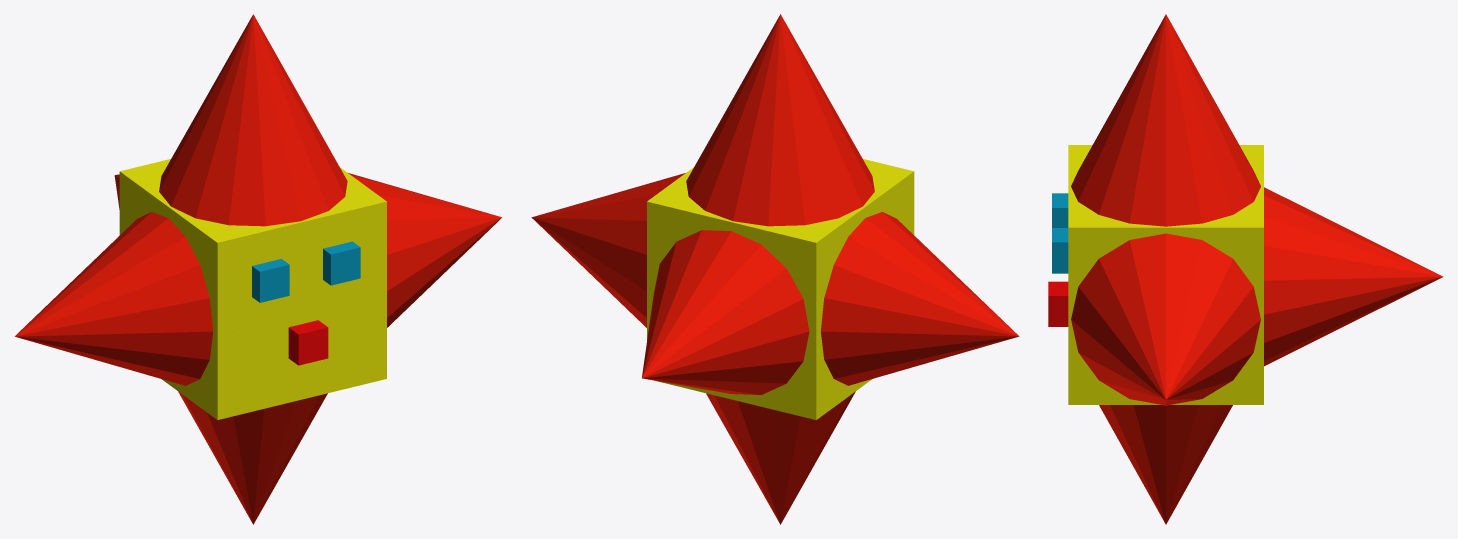
The model's file is Kazul2.fbx.
The picture shows the model from 3 angles, left to right: view 1: azimuth 30°, elevation 25°; view 2: azimuth 150°, elevation 25°; view 3: azimuth 270°, elevation 25°; orthographic projection.
Visible parts, largest first — view 1: Body.001, Top Spike, Right Spike, Left Spike, Bottom Spike, Eye, Nose; view 2: Top Spike, Back Spike, Right Spike, Body.001, Left Spike, Bottom Spike; view 3: Left Spike, Top Spike, Back Spike, Body.001, Bottom Spike, Eye, Nose.
Boxes of the visible parts, <box> form: Body.001: <box>119,159,386,419</box>; Top Spike: <box>159,14,347,226</box>; Right Spike: <box>15,212,213,385</box>; Left Spike: <box>348,173,501,327</box>; Bottom Spike: <box>178,391,327,524</box>; Eye: <box>252,241,360,302</box>; Nose: <box>288,320,328,365</box>; Top Spike: <box>686,14,874,226</box>; Back Spike: <box>642,230,809,394</box>; Right Spike: <box>820,212,1019,385</box>; Body.001: <box>647,159,914,419</box>; Left Spike: <box>531,173,685,327</box>; Bottom Spike: <box>706,391,855,524</box>; Left Spike: <box>1071,233,1260,405</box>; Top Spike: <box>1071,14,1260,226</box>; Back Spike: <box>1264,187,1443,366</box>; Body.001: <box>1068,145,1263,404</box>; Bottom Spike: <box>1099,405,1232,524</box>; Eye: <box>1052,193,1068,273</box>; Nose: <box>1048,281,1068,326</box>.
Bounding box in the file's own units: 576 × 576 × 404.
